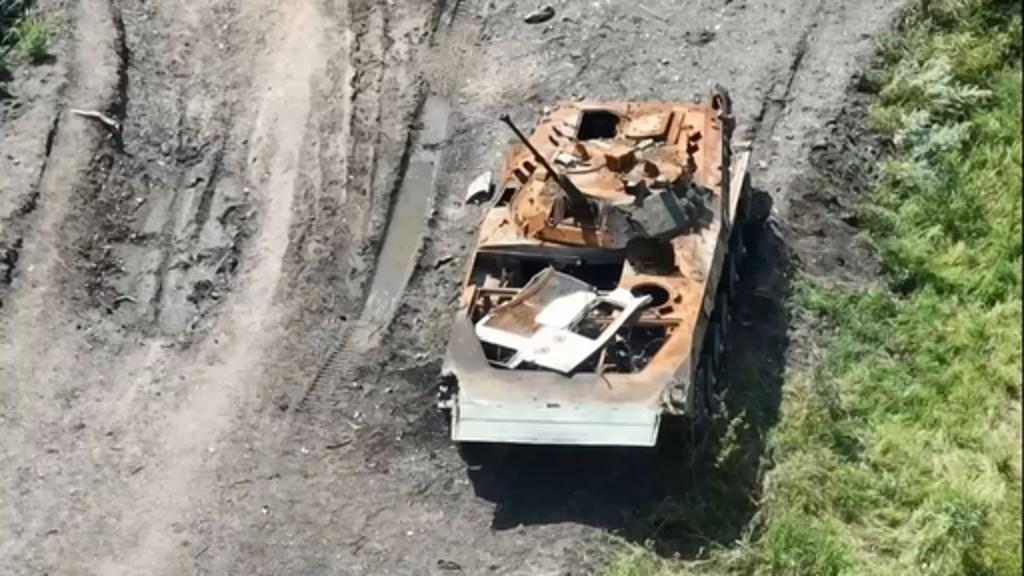APC-IFV: (410, 66, 750, 464)
